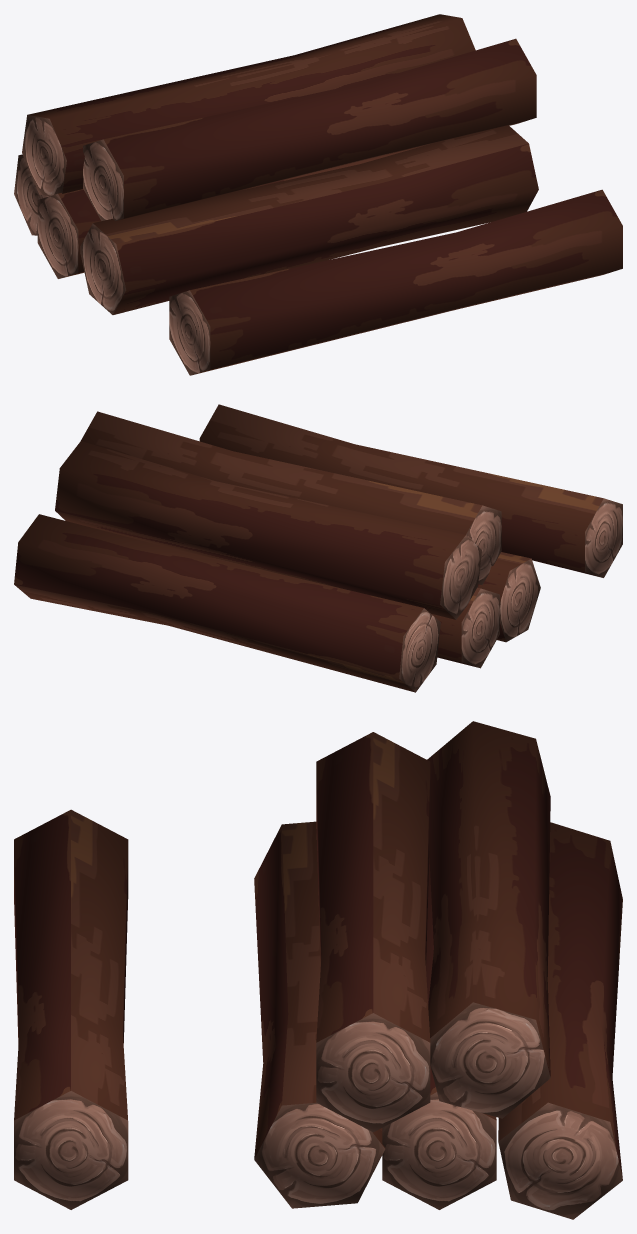
Rendered from pile-de-bois-3.glb.
3 views of the same model, one above another, from view 1: azimuth 30°, elevation 25°; view 2: azimuth 150°, elevation 25°; view 3: azimuth 270°, elevation 25° (orthographic). The views are drawn at different scales.
Visible parts, largest first — view 1: SM_PROP_treetrunk_04; view 2: SM_PROP_treetrunk_04; view 3: SM_PROP_treetrunk_04.
Boxes of the visible parts, x1,y1,x2,y2 form: SM_PROP_treetrunk_04: (14, 14, 622, 375); SM_PROP_treetrunk_04: (14, 404, 622, 692); SM_PROP_treetrunk_04: (14, 721, 622, 1219).
Bounding box in the file's own units: 4.84 × 1.62 × 4.2.
2 materials, 2 textured.
